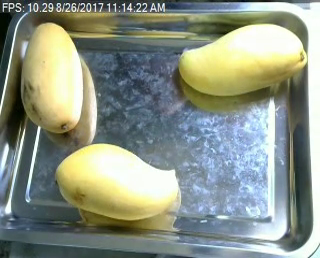Mango: (179, 23, 308, 100), (54, 143, 179, 222), (21, 21, 82, 132)
